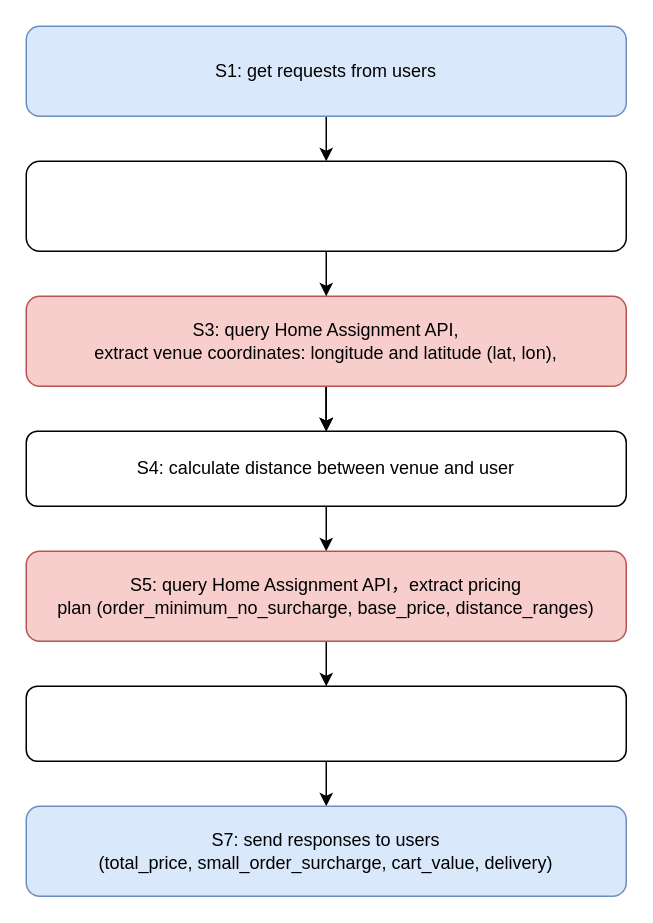
This 653x923 diagram has some shape labels left out. The centre of each missing label's shape, as x and y in pixels:
"S2: parse parameters of request (venue_slug, cart_value, user_lat, user_lon)" belongs at pixel 325 205.
"S6: calculate delivery fee according to distance" belongs at pixel 325 723.
